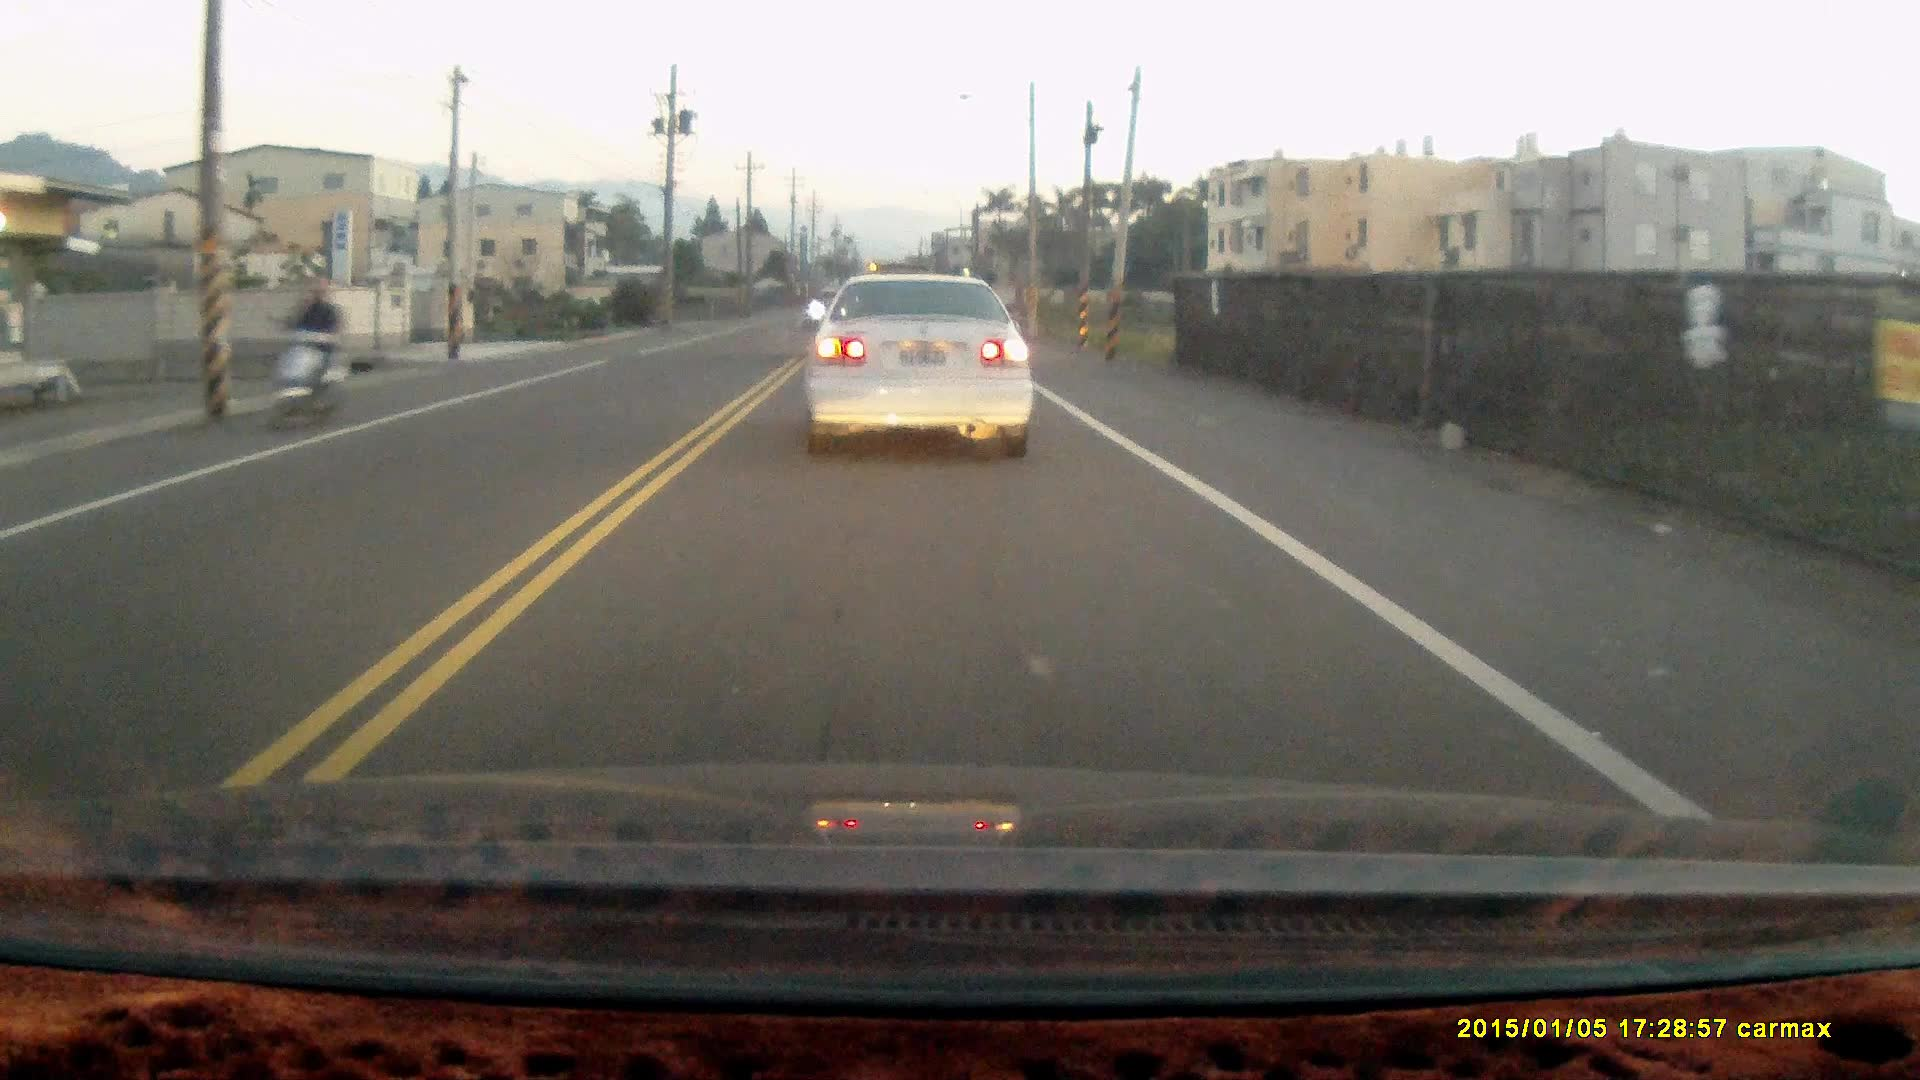rider: (263, 277, 349, 437)
vehicle: (799, 271, 1035, 460)
